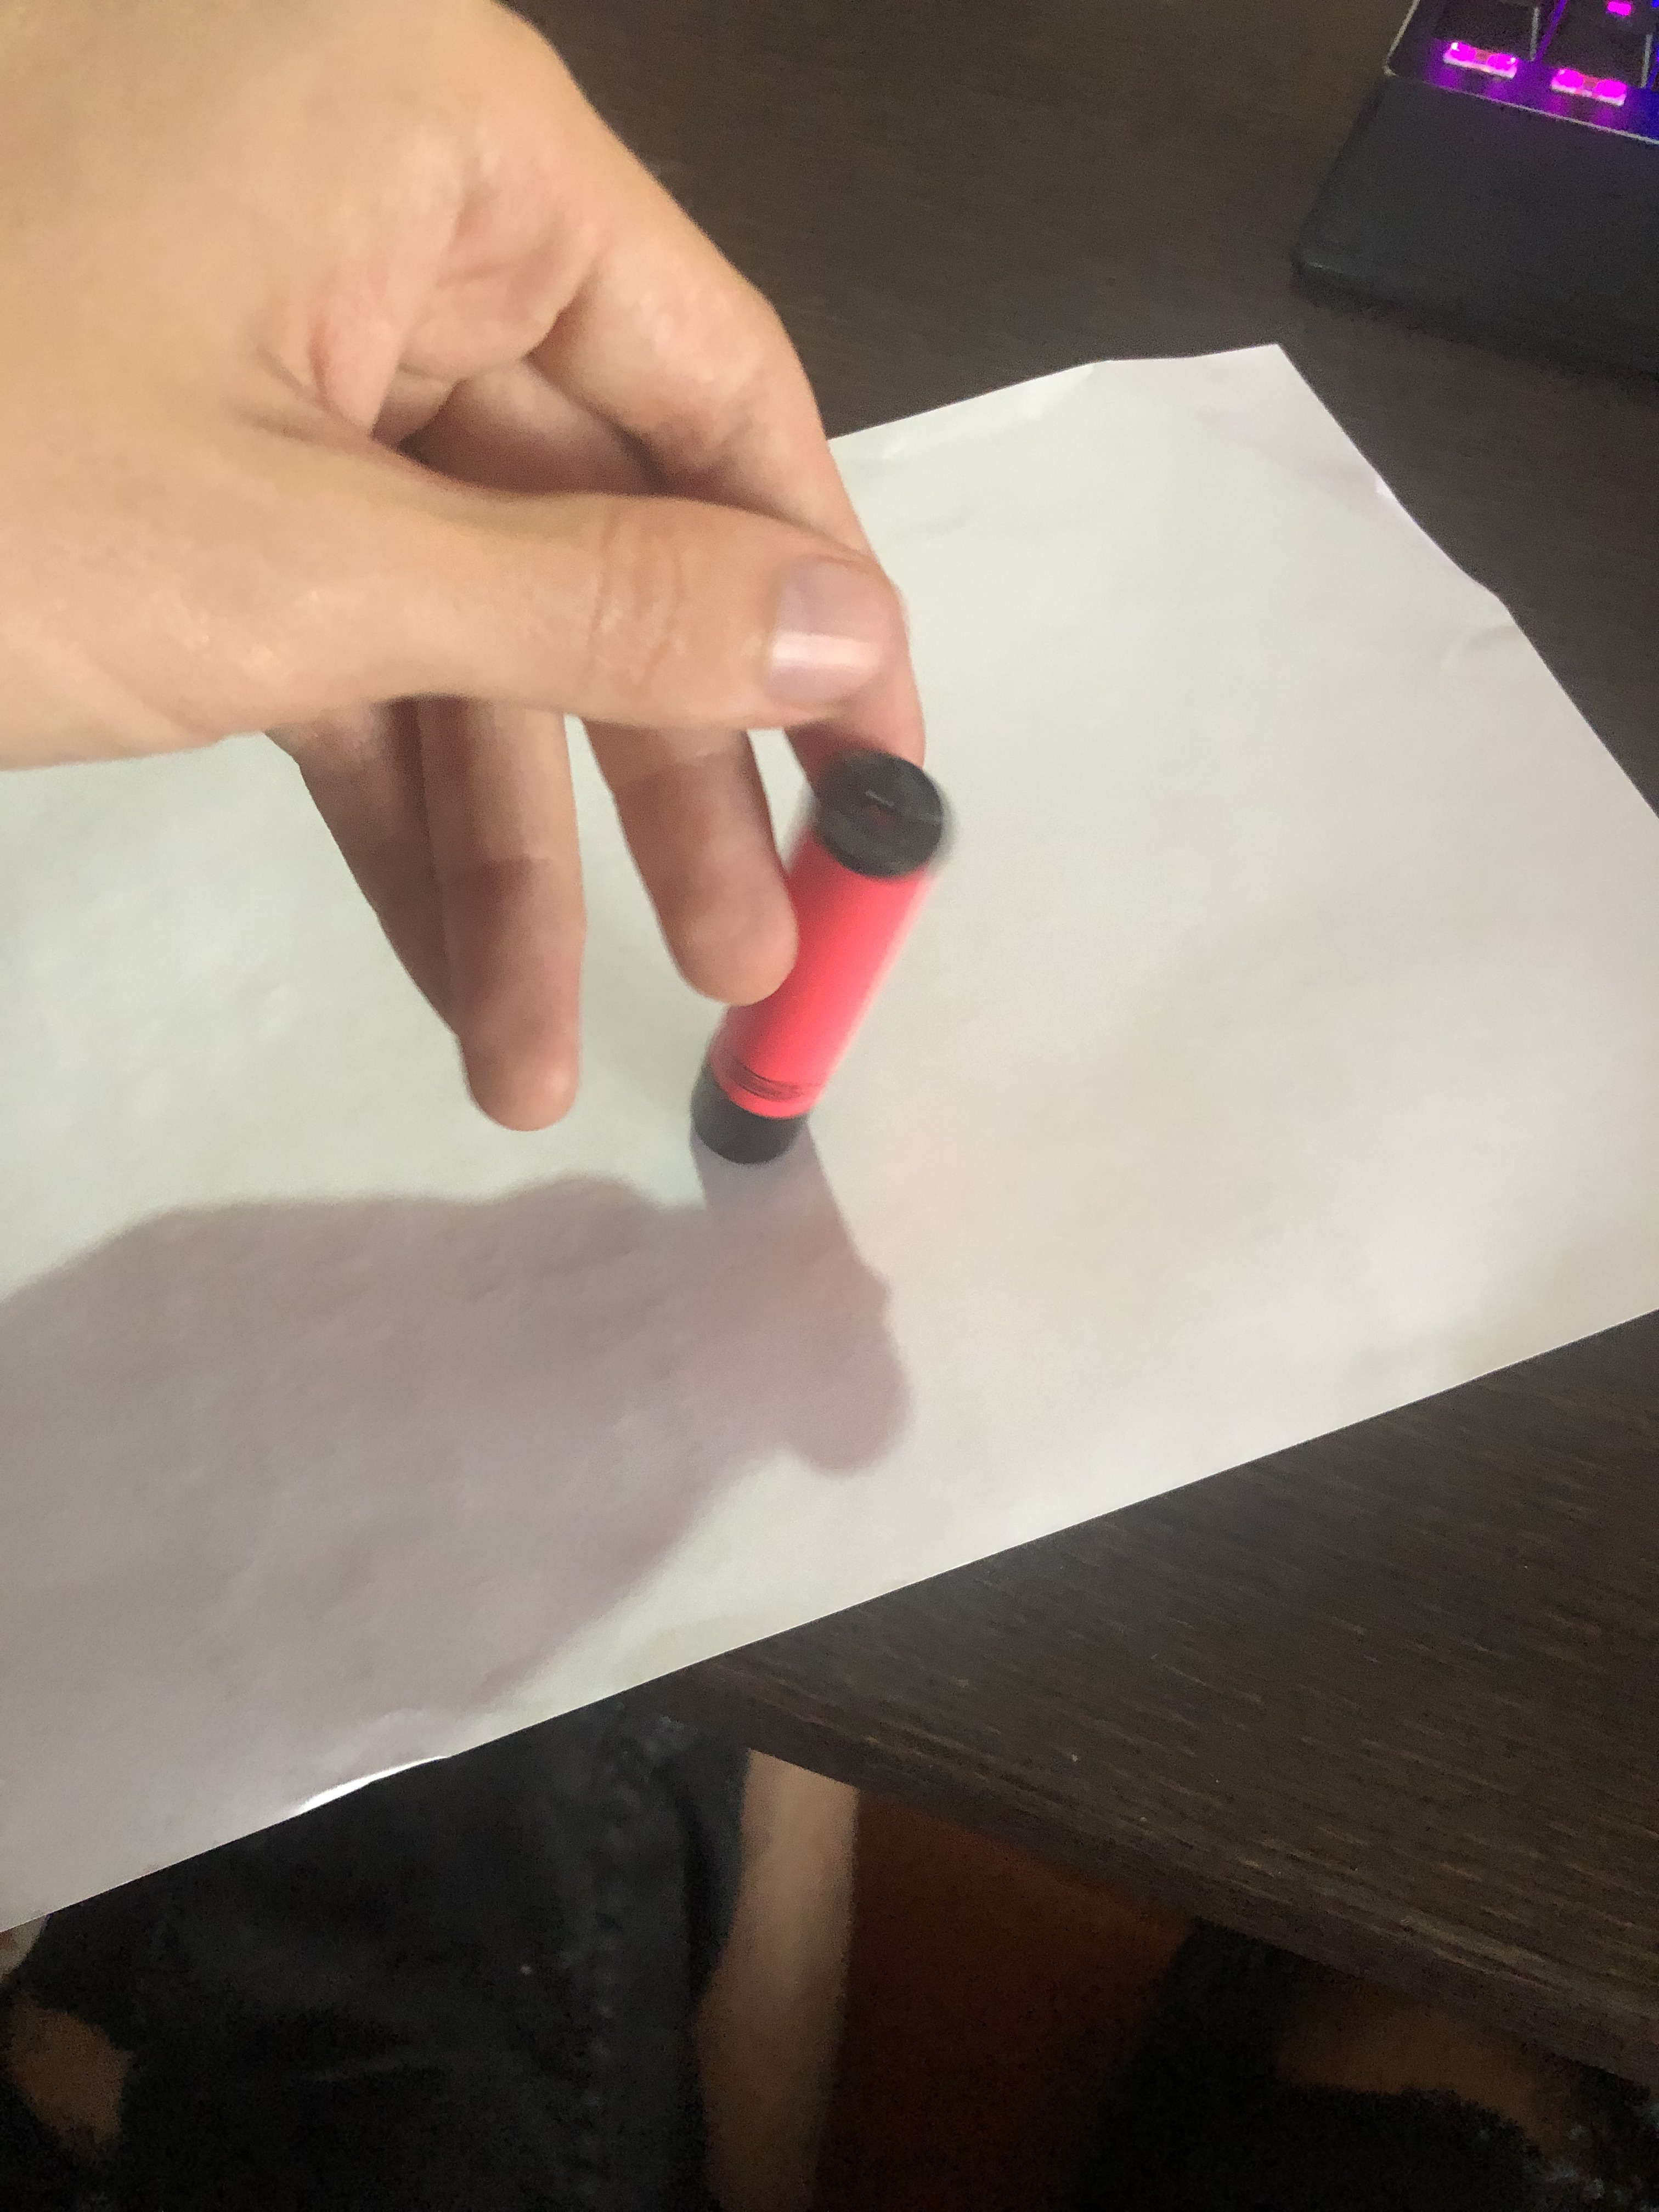Mechero: (688, 758, 951, 1193)
